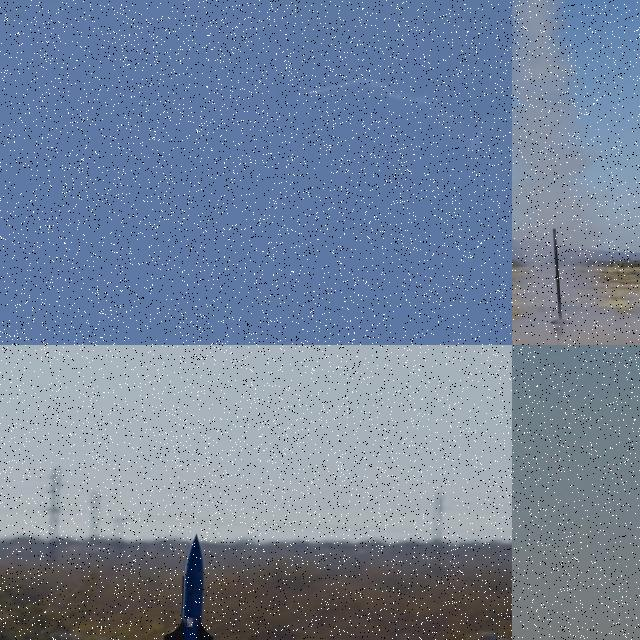Rocket: (161, 532, 215, 640), (308, 89, 312, 96)
